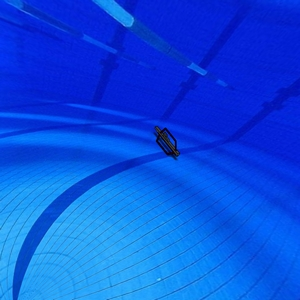submarine: (151, 124, 183, 162)
